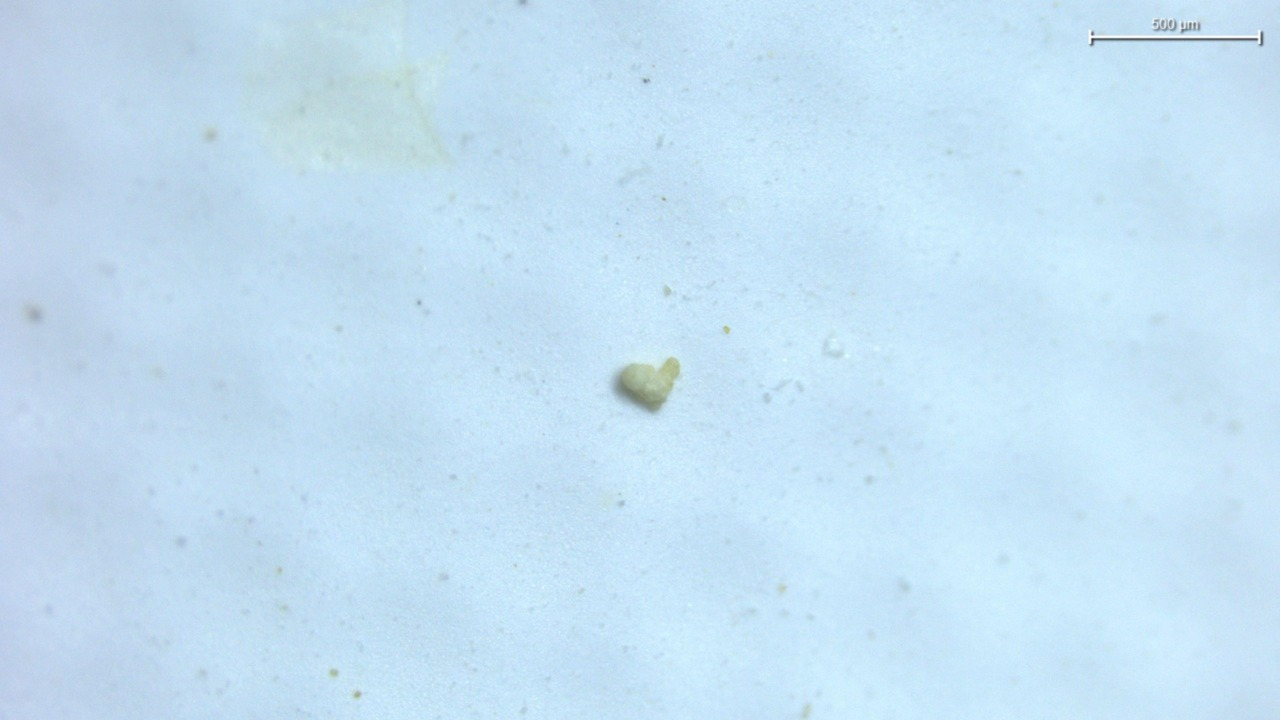microplastic_fragment: (621, 357, 680, 407)
